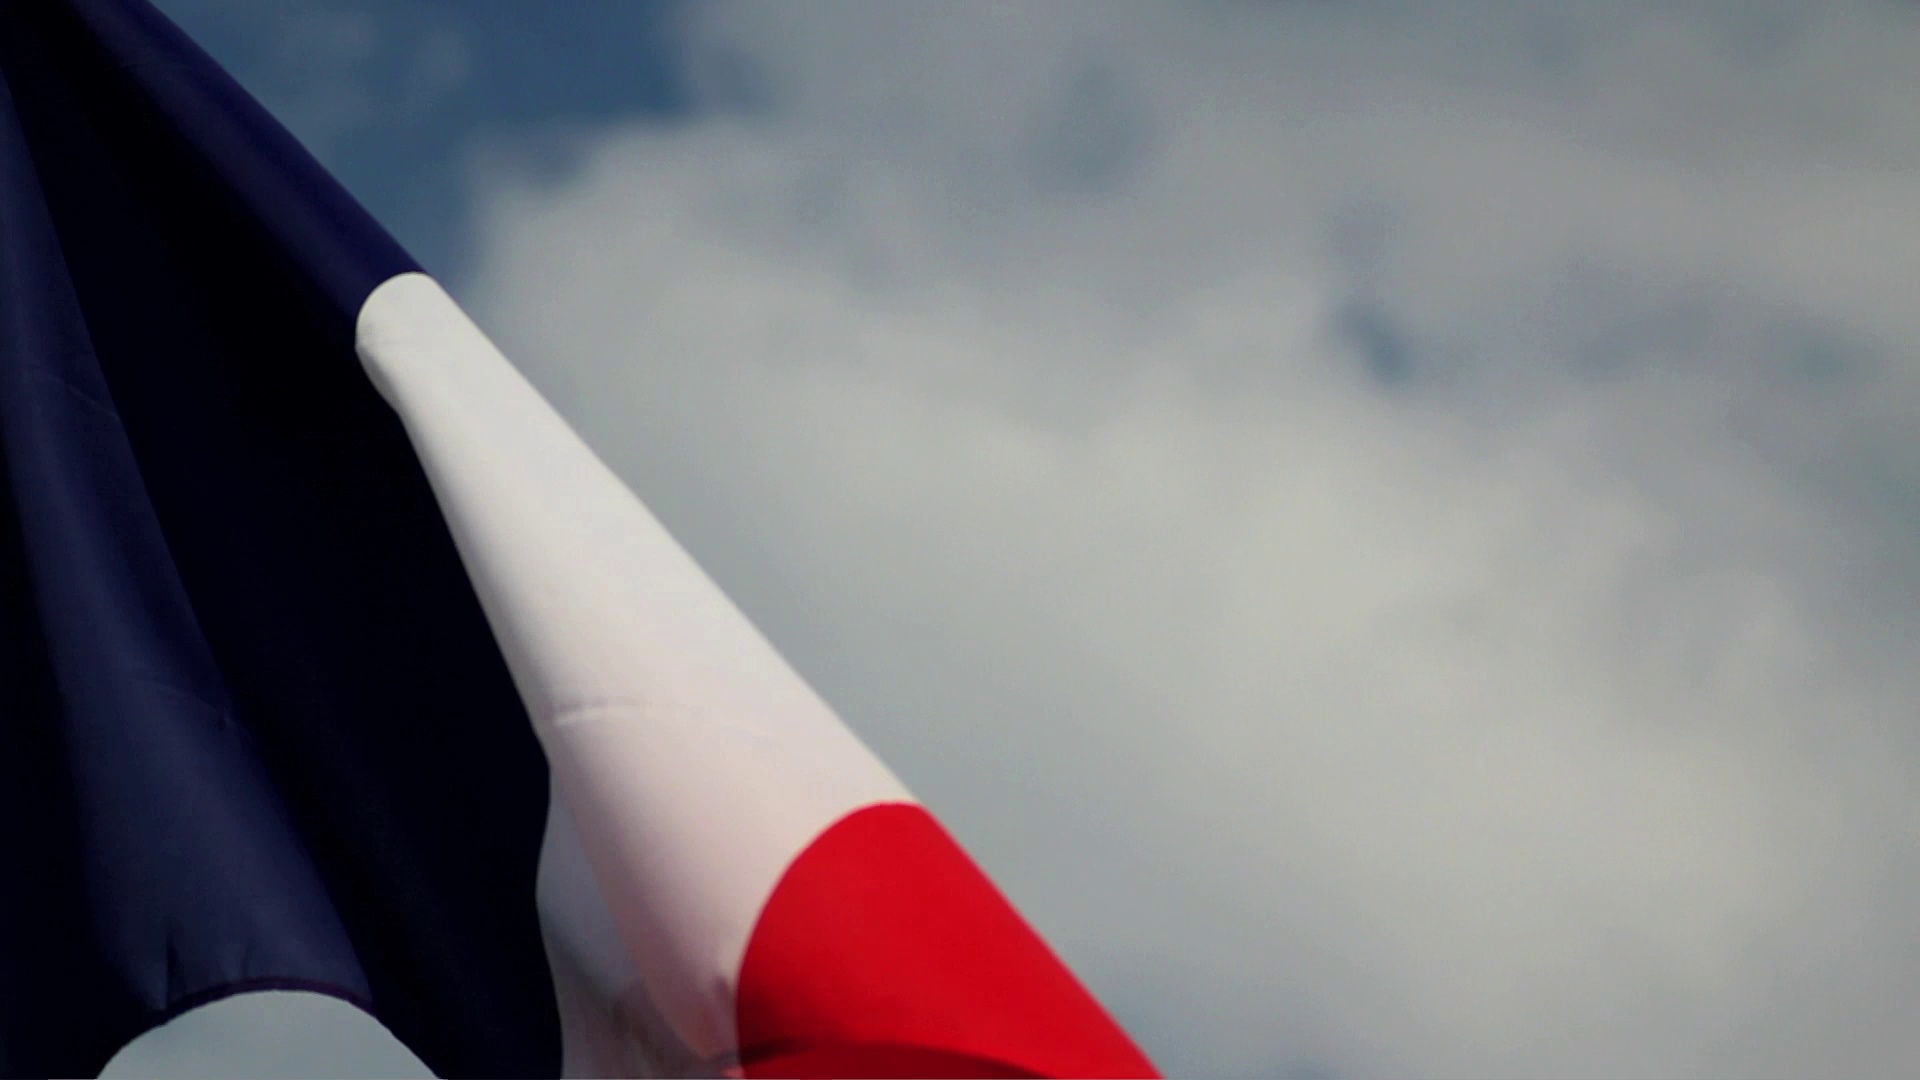French Flag: (1, 1, 1164, 1080)
